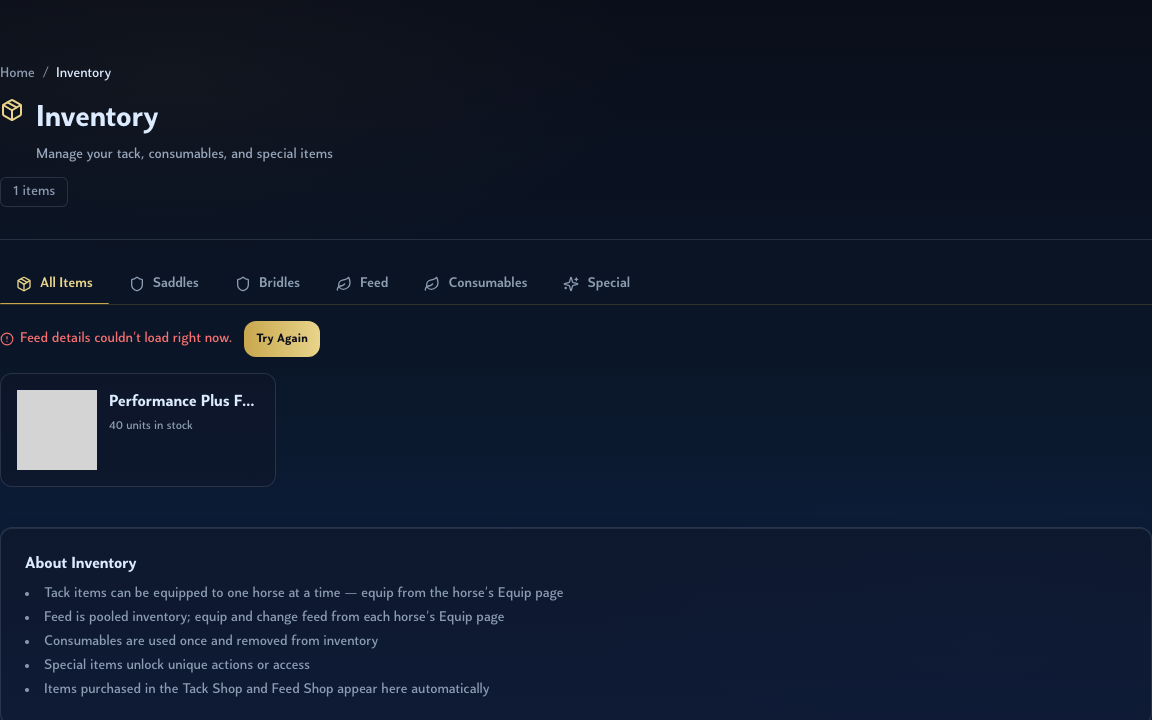
Test: InventoryPage — feed catalog failure (Equoria-gejdf) › shows an inline notice with Try Again, keeps the authored feed name, and recovers on retry
The width and height of the screenshot is (1152, 720).
Expected: the message reads "Feed details couldn't load right now.", x1=20 y1=331 x2=232 y2=346
Expected: the heading "Performance Plus Feed" is shown, x1=109 y1=390 x2=259 y2=414
Step 1. Click the button "Try Again" → (282, 339), box x1=244 y1=321 x2=320 y2=357
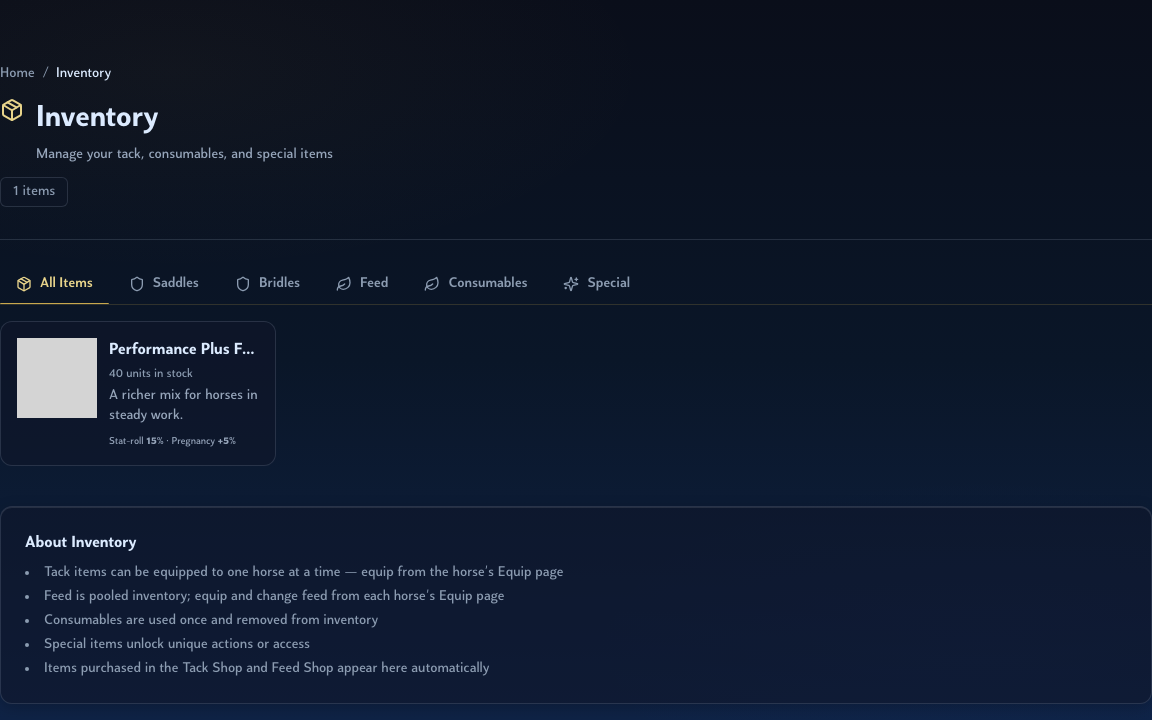
Now the text "15%" is shown, box x1=146 y1=436 x2=164 y2=447
Now the element with test id "feed-details-error" is gone
Now the text "+5%" is shown, box x1=218 y1=436 x2=236 y2=447
